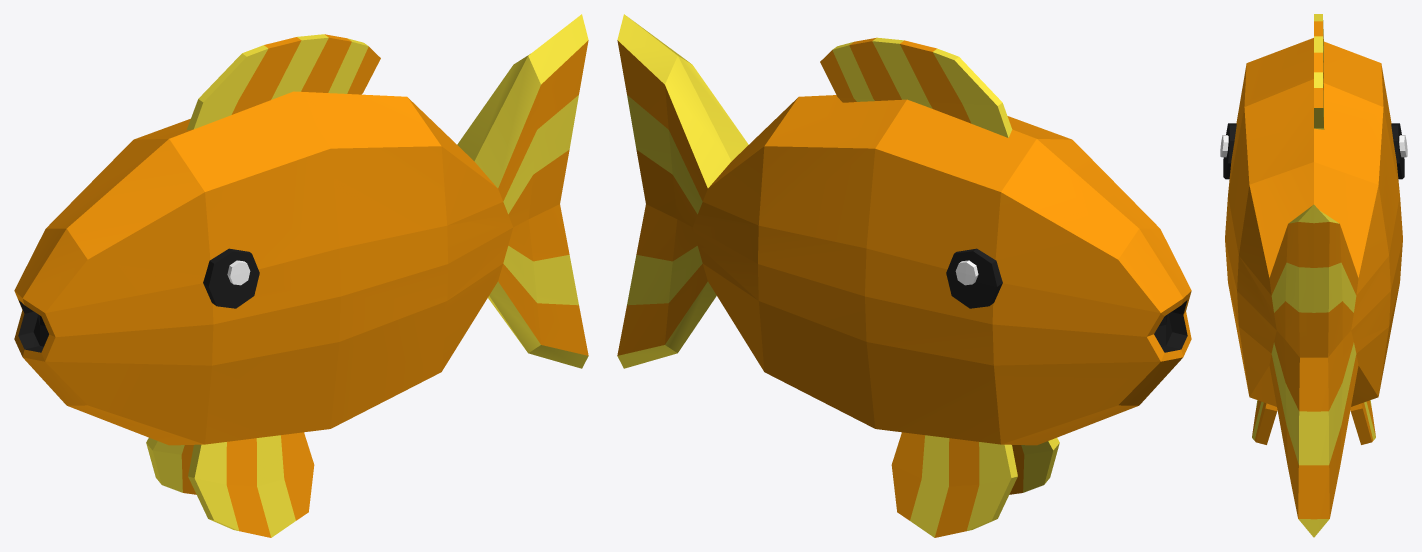
Rendered from gelbfisch.glb.
3 renders of one model, left to right at view 1: azimuth 30°, elevation 25°; view 2: azimuth 150°, elevation 25°; view 3: azimuth 270°, elevation 25°, orthographic. The views are drawn at different scales.
Visible parts, largest first — view 1: fish_01_Cube.003; view 2: fish_01_Cube.003; view 3: fish_01_Cube.003.
Boxes of the visible parts, x1=… form: fish_01_Cube.003: x1=14, y1=14, x2=588, y2=537; fish_01_Cube.003: x1=617, y1=14, x2=1191, y2=537; fish_01_Cube.003: x1=1220, y1=14, x2=1407, y2=537.
Size of the model in its own units: 251 by 197 by 77.36.
